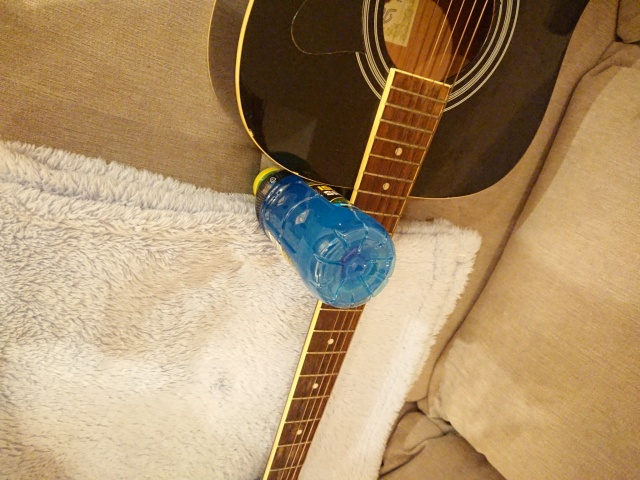Vindi Iso Sport Forest Strawberries 500mL: (251, 163, 398, 312)
